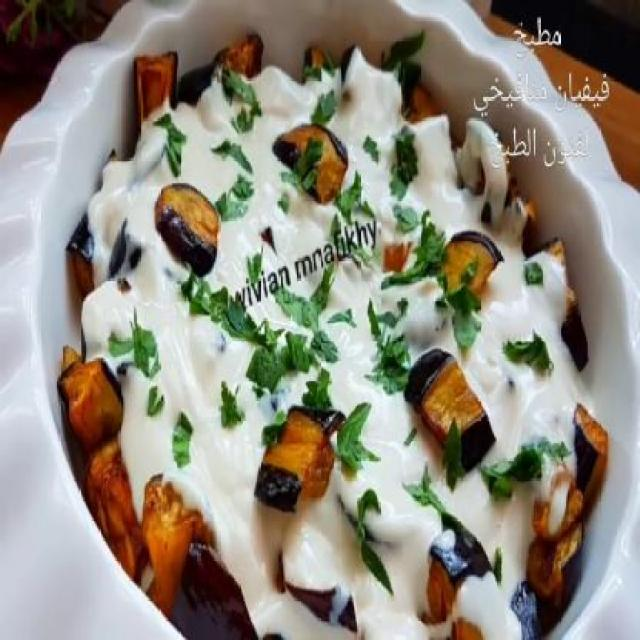eggplant: (51, 8, 609, 640), (91, 355, 263, 639), (422, 462, 580, 638), (407, 206, 501, 471), (265, 402, 341, 516), (270, 113, 355, 204), (155, 172, 223, 277)
hummus: (85, 58, 586, 639)
